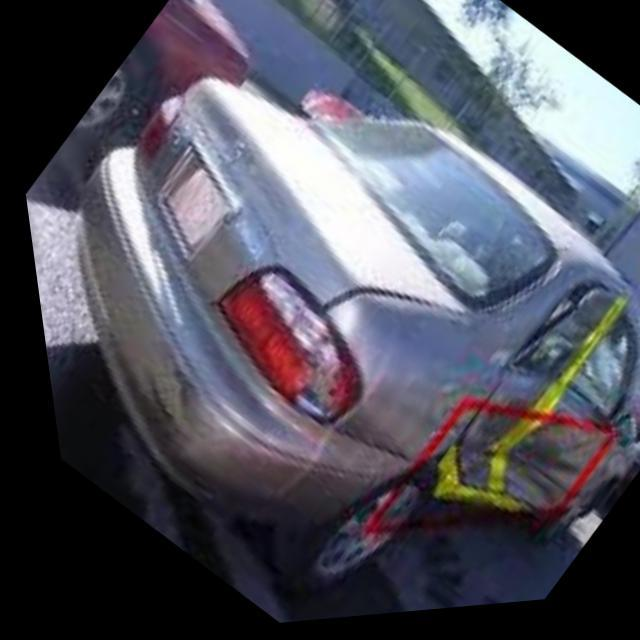dent: (390, 280, 628, 538)
